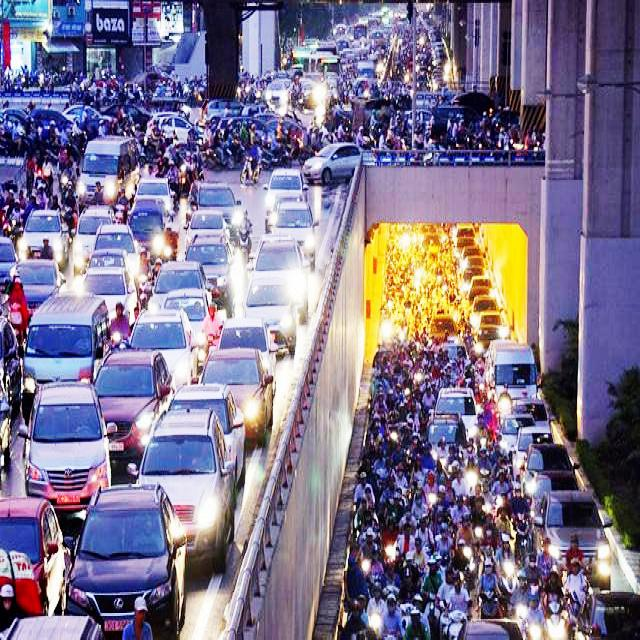Car: (64, 481, 187, 639), (127, 406, 238, 574), (17, 379, 114, 516), (20, 291, 110, 424), (92, 346, 173, 465), (0, 496, 70, 616), (167, 382, 246, 487), (199, 346, 275, 447), (536, 489, 612, 589), (128, 307, 200, 393), (248, 232, 309, 322), (217, 315, 278, 397), (242, 273, 297, 357), (81, 249, 138, 327), (162, 286, 224, 346), (5, 258, 66, 318), (484, 339, 539, 403), (268, 198, 316, 270), (184, 235, 234, 303), (574, 589, 639, 639), (148, 261, 211, 312), (522, 442, 578, 496), (18, 208, 69, 267), (263, 167, 309, 230), (72, 207, 113, 274), (302, 141, 362, 184), (186, 180, 242, 226), (91, 222, 140, 274), (0, 614, 104, 638), (425, 410, 468, 468), (434, 387, 479, 442), (184, 208, 230, 252), (132, 177, 175, 220), (0, 370, 13, 469), (0, 235, 18, 291)
